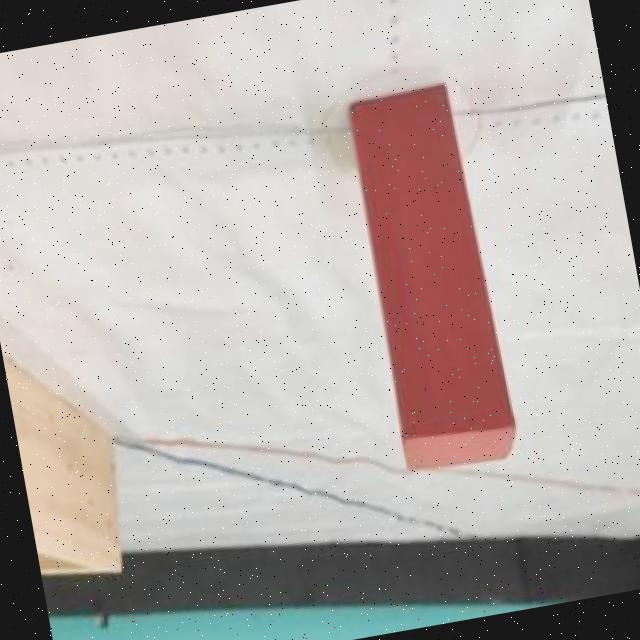redbox: (341, 82, 522, 475)
